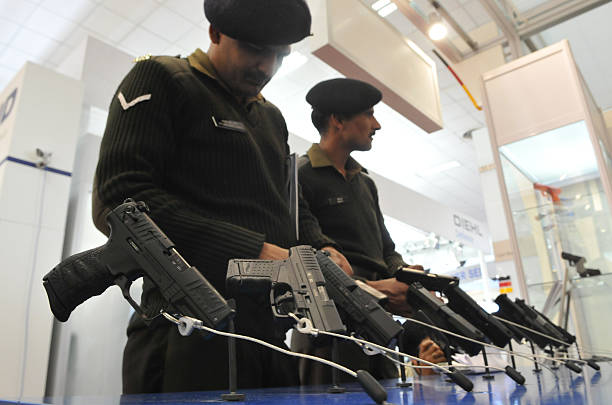pistol: (40, 195, 235, 343), (225, 241, 348, 351), (402, 283, 482, 368)
